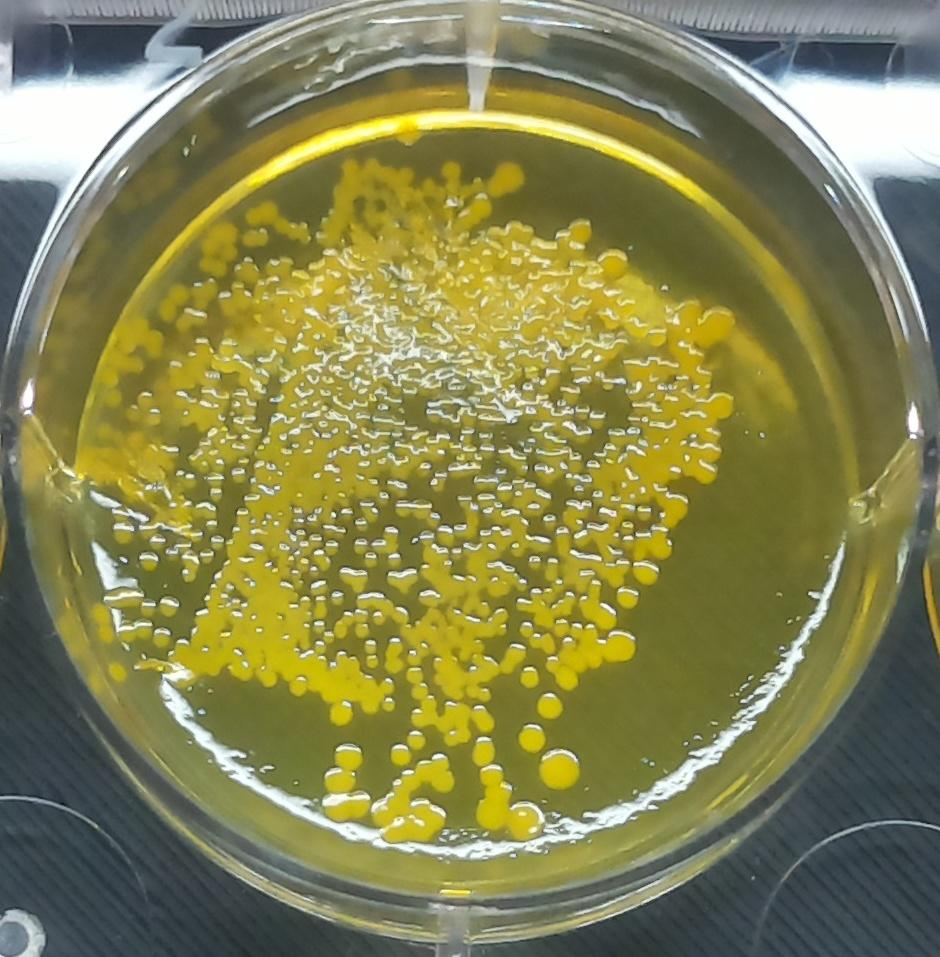vharveyi: (537, 747, 587, 798), (604, 627, 642, 666), (514, 717, 551, 756), (467, 729, 499, 770), (706, 386, 740, 424), (614, 584, 645, 615)
